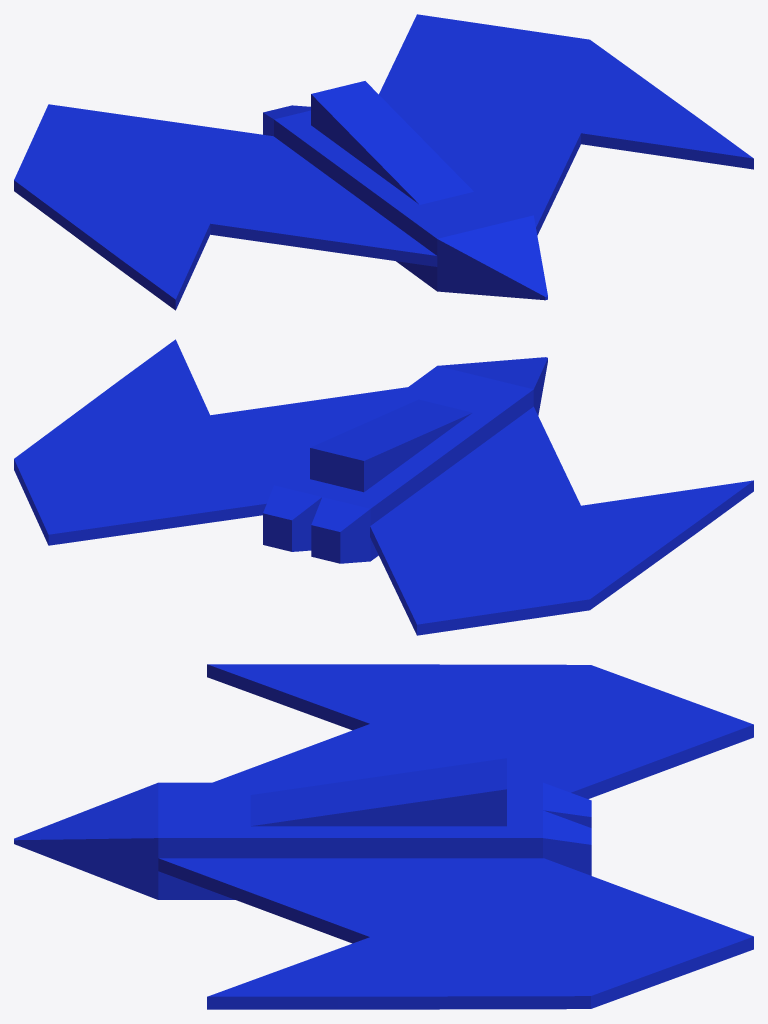
File: spaceship.glb
The picture shows the model from 3 angles, top to bottom: view 1: azimuth 30°, elevation 25°; view 2: azimuth 150°, elevation 25°; view 3: azimuth 270°, elevation 25°; orthographic projection. The views are drawn at different scales.
Parts seen in each view (by area): view 1: Spaceship; view 2: Spaceship; view 3: Spaceship.
Boxes of the visible parts, x1=… form: Spaceship: x1=14, y1=14, x2=753, y2=310; Spaceship: x1=14, y1=339, x2=753, y2=635; Spaceship: x1=14, y1=664, x2=753, y2=1009.
Bounding box in the file's own units: 11.98 × 1.66 × 11.26.
